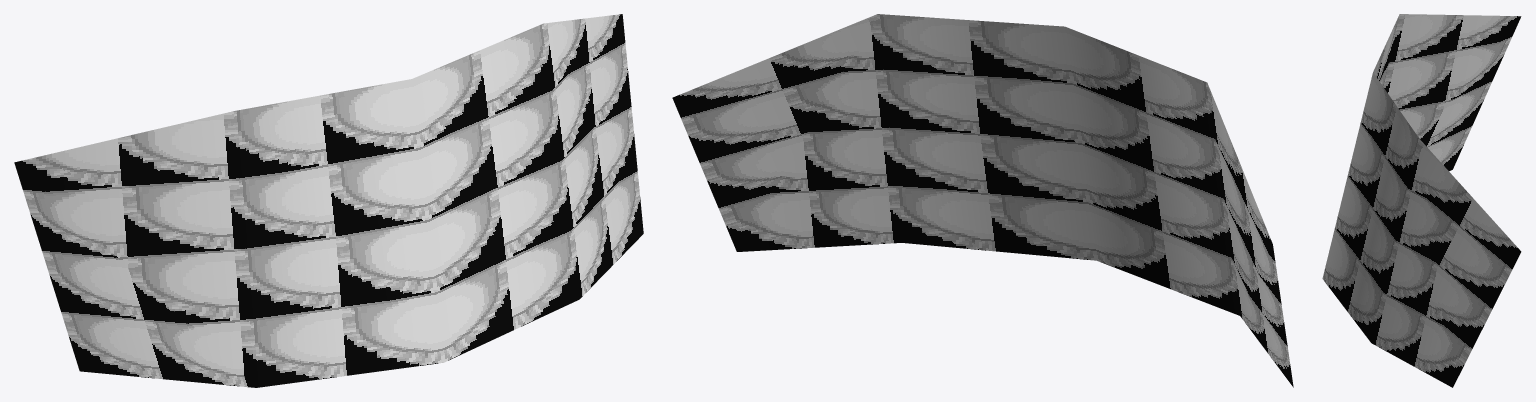
Rendered from code_head02.gltf.
3 views of the same model, side by side, from view 1: azimuth 30°, elevation 25°; view 2: azimuth 150°, elevation 25°; view 3: azimuth 270°, elevation 25° (orthographic). The views are drawn at different scales.
Parts seen in each view (by area): view 1: code_head02; view 2: code_head02; view 3: code_head02.
Boxes of the visible parts, box(x1,y1,x2,y2) form: code_head02: box(14, 14, 643, 387); code_head02: box(672, 14, 1293, 387); code_head02: box(1322, 14, 1521, 387).
Size of the model in its own units: 0.7292 by 0.2983 by 0.2605.
Materials: 1 (1 with a texture image).
